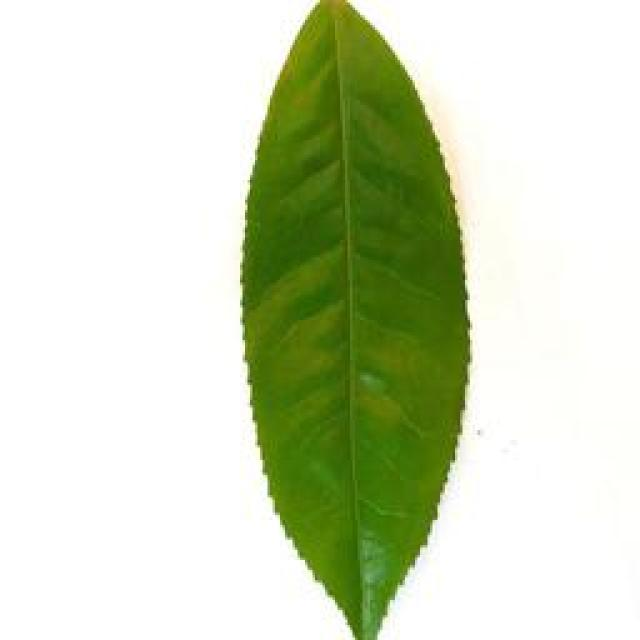Healthy: (230, 0, 488, 640)
